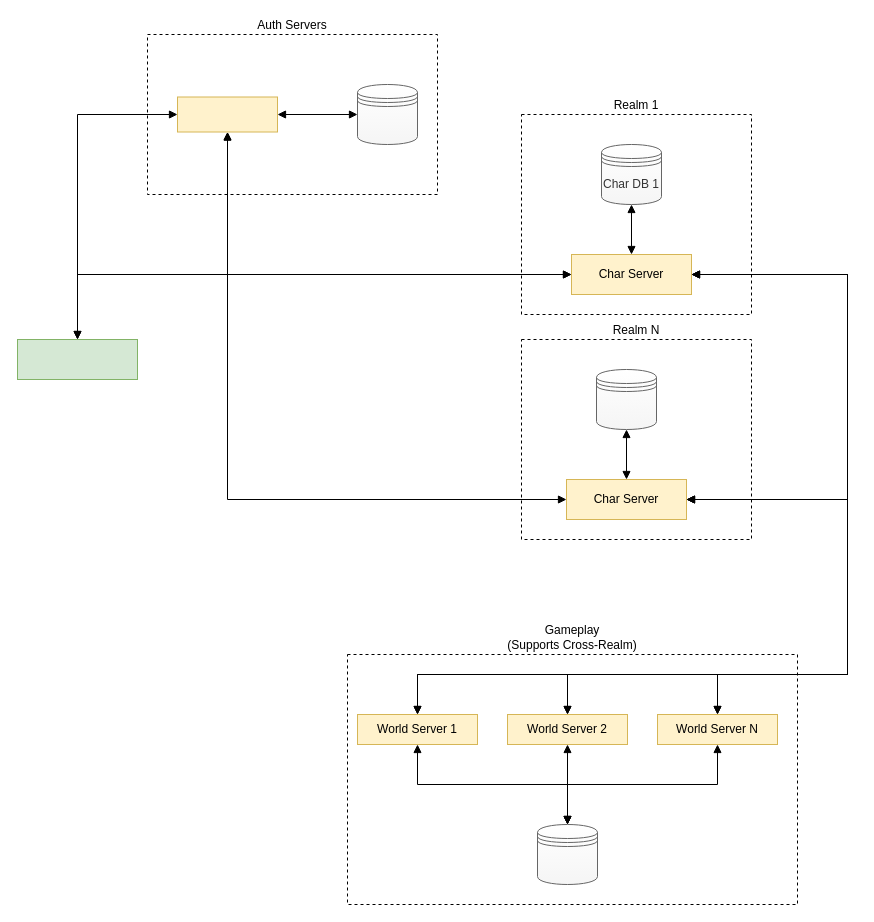
This 874x922 diagram has some shape labels left out. Each missing label, with the centre of its shape:
Account DB: [387,114]
Auth Server: [227,114]
Char DB 2: [626,399]
Game Client 1: [77,359]
World DB: [567,854]
